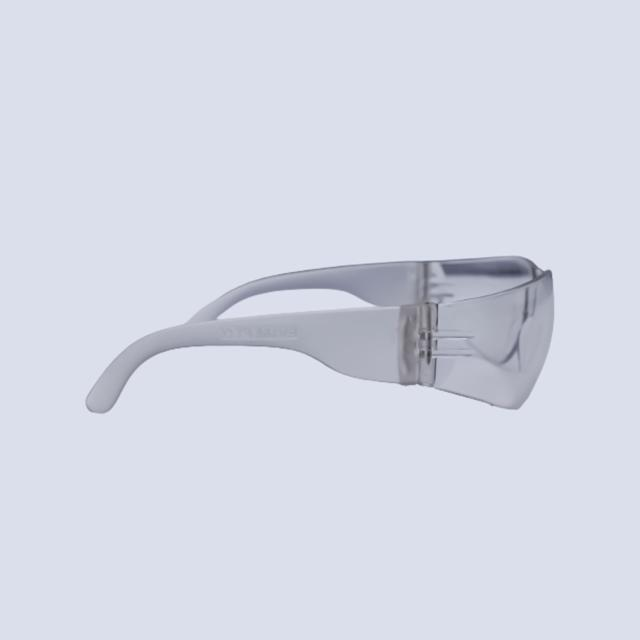Protective Glasses: (76, 234, 611, 492)
